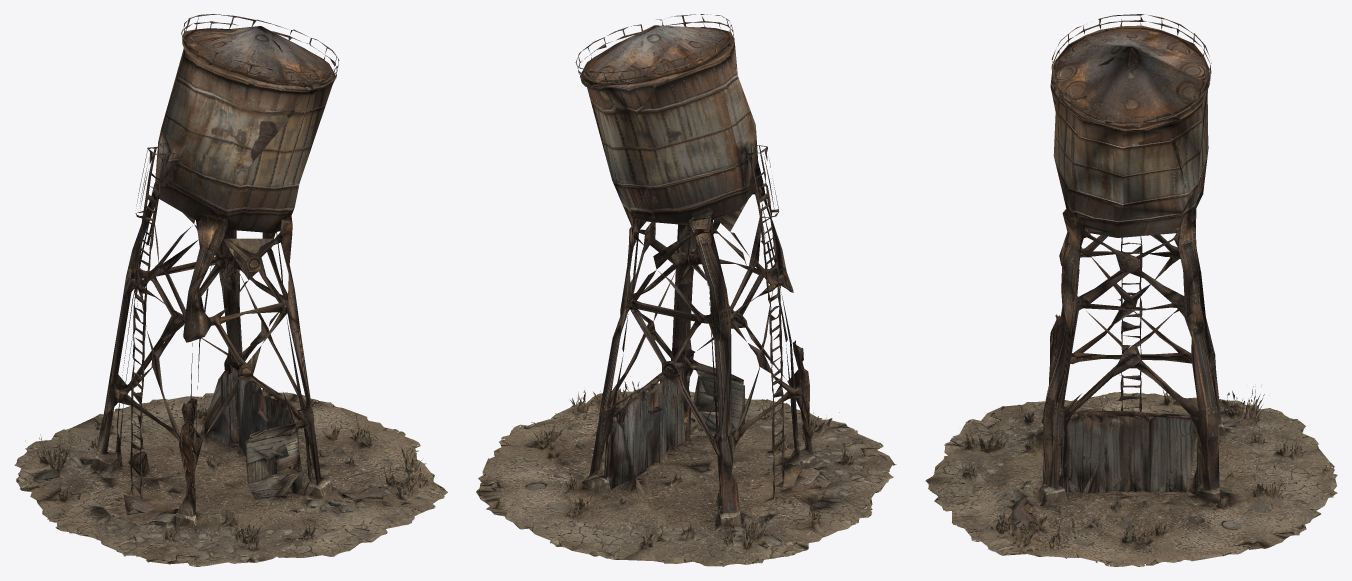
Rendered from wt_lean.glb.
The picture shows the model from 3 angles, left to right: view 1: azimuth 30°, elevation 25°; view 2: azimuth 150°, elevation 25°; view 3: azimuth 270°, elevation 25°; orthographic projection.
Parts seen in each view (by area): view 1: wt_lean; view 2: wt_lean; view 3: wt_lean.
Boxes of the visible parts, x1=… form: wt_lean: x1=14, y1=14, x2=447, y2=566; wt_lean: x1=476, y1=14, x2=896, y2=566; wt_lean: x1=925, y1=14, x2=1337, y2=566.
Bounding box in the file's own units: 156 × 187 × 155.
1 material, 1 textured.
